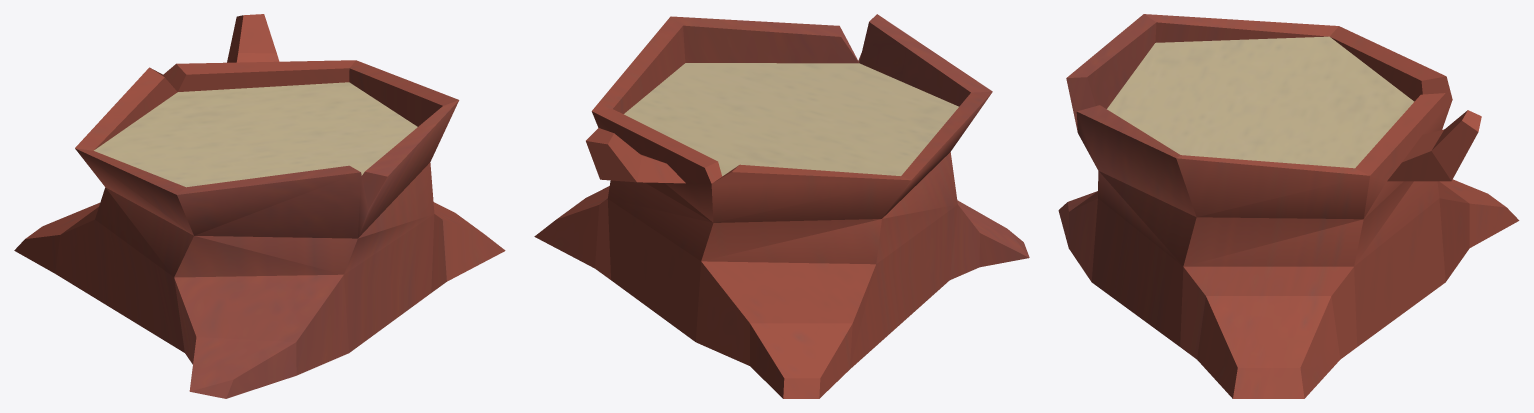
The model's file is Tronko.fbx.
3 renders of one model, left to right at view 1: azimuth 30°, elevation 25°; view 2: azimuth 150°, elevation 25°; view 3: azimuth 270°, elevation 25°, orthographic. The views are drawn at different scales.
Parts seen in each view (by area): view 1: Tronkito; view 2: Tronkito; view 3: Tronkito.
Part boxes in pixels (x1,y1,x2,y2): Tronkito: [14, 14, 505, 398]; Tronkito: [534, 14, 1029, 398]; Tronkito: [1058, 14, 1519, 398].
Bounding box in the file's own units: 393 × 382 × 191.
Materials: 1 (1 with a texture image).
